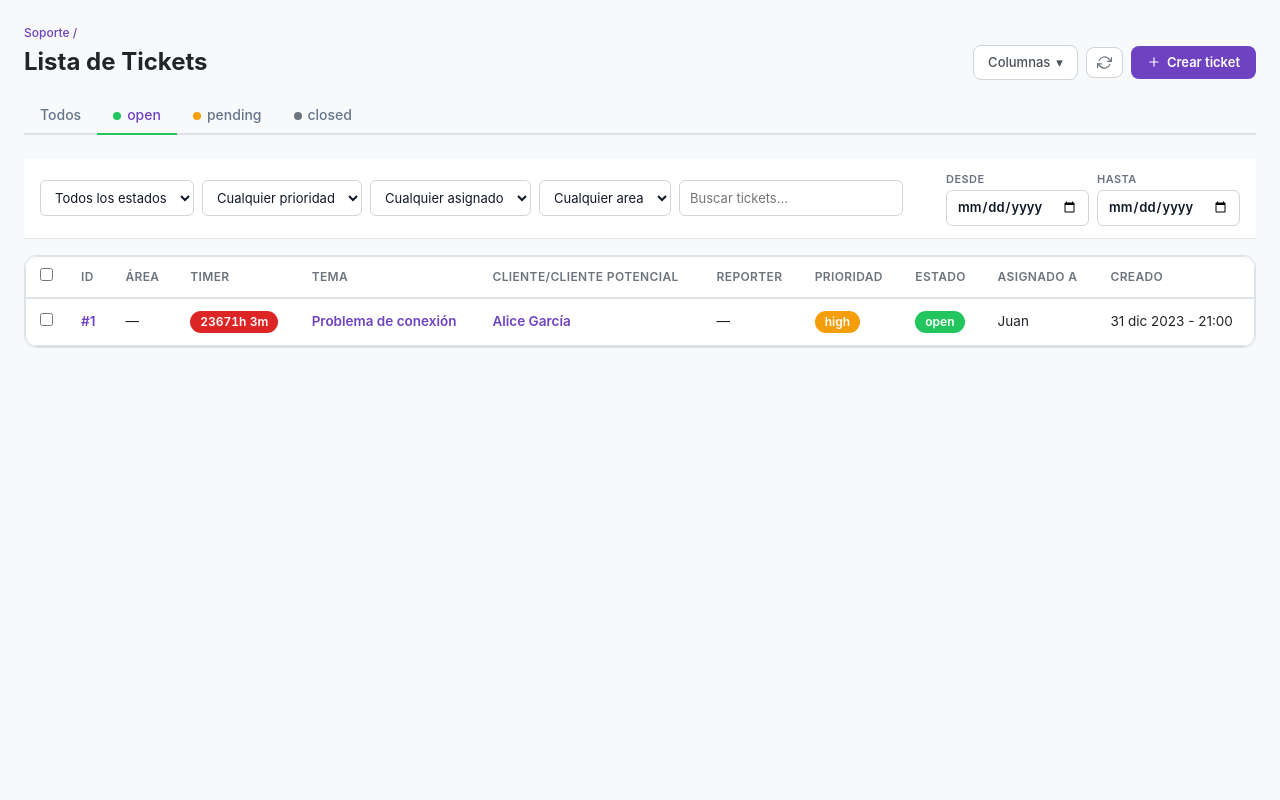
Test: TicketsListPage (Prominense re-skin) › opens the CreateTicketModal when "Crear ticket" is clicked
Step 1. Click the button "Crear ticket" → {"x": 1193, "y": 62}, box top-left (1131, 46), bottom-right (1256, 79)
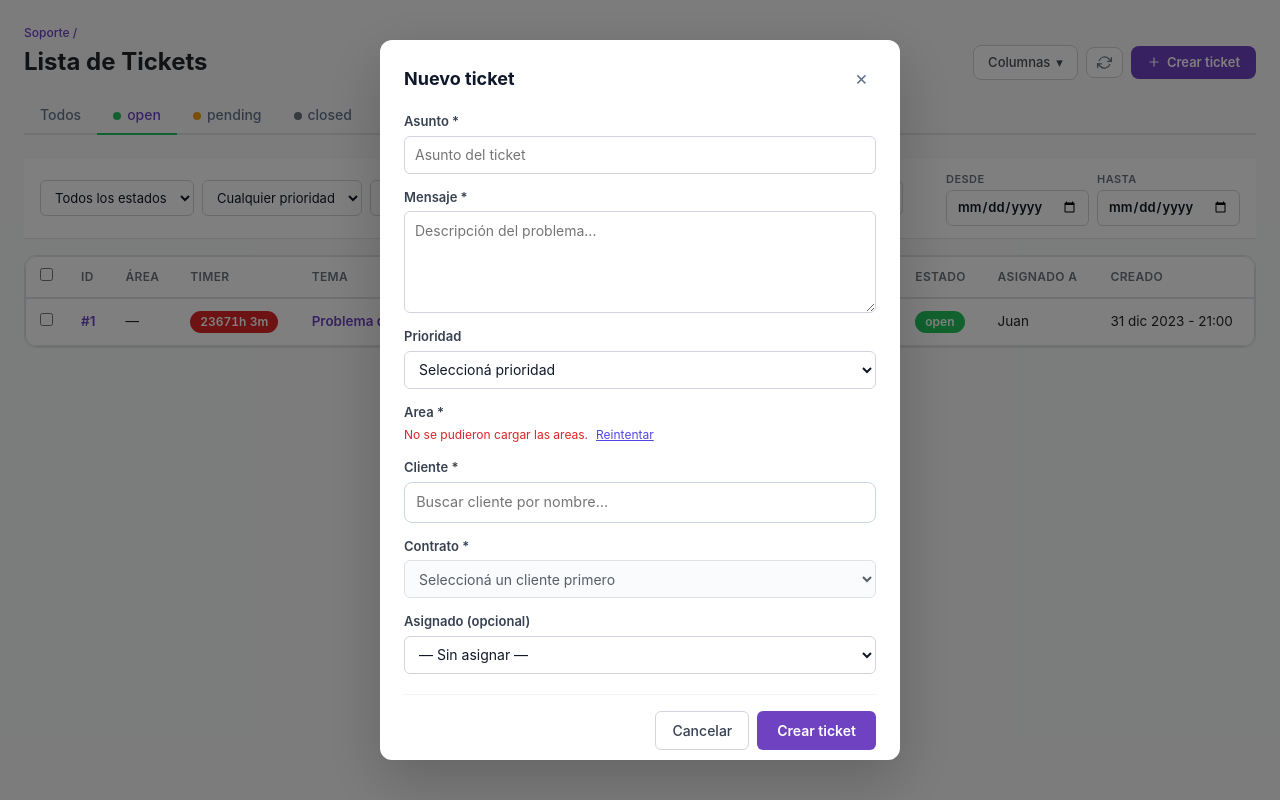
Expected: the dialog "Nuevo ticket" is shown, top-left (380, 40), bottom-right (900, 760)
